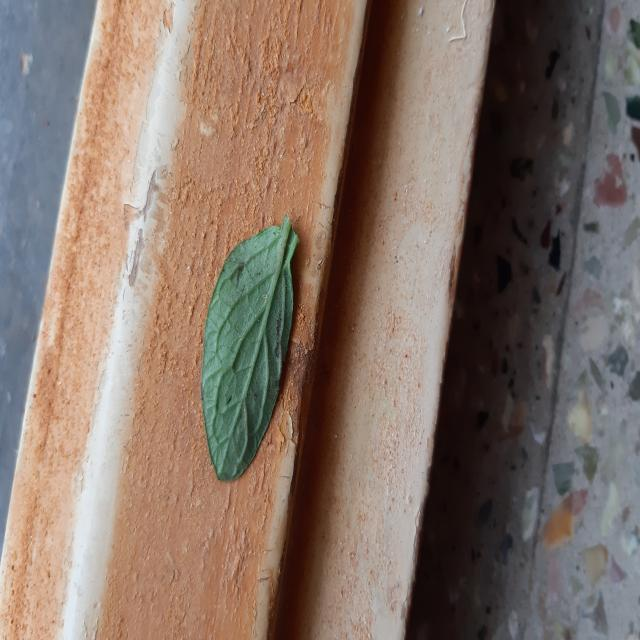tomato: (201, 216, 299, 480)
